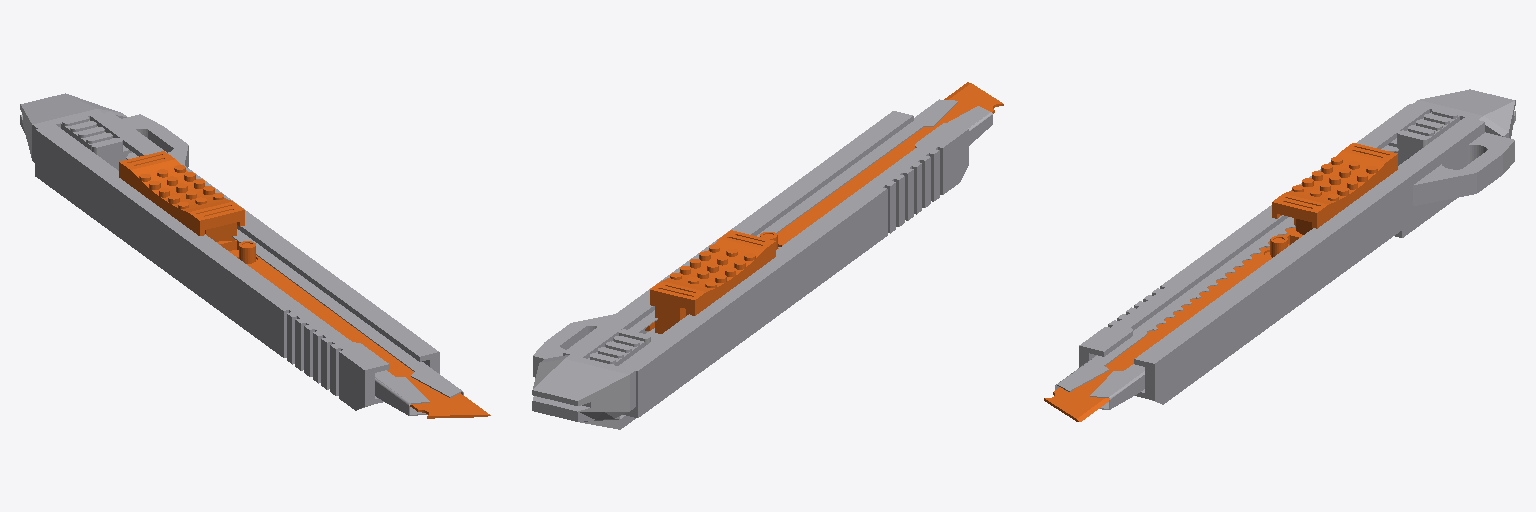
robot.urdf — blade_103706:
<?xml version="1.0"?>
<robot name="blade_103706">
  <!-- Meshes come from the dataset *_rotate exports, which share the joint frame. -->
  <link name="base_link">
    <visual>
      <origin xyz="0 0 0" rpy="0 0 0"/>
      <geometry>
        <mesh filename="meshes/blade_103706_base.obj"/>
      </geometry>
      <material name="steel_grey">
        <color rgba="0.70 0.70 0.72 1.0"/>
      </material>
    </visual>
    <collision>
      <origin xyz="0 0 0" rpy="0 0 0"/>
      <geometry>
        <mesh filename="meshes/blade_103706_base.obj"/>
      </geometry>
    </collision>
    <inertial>
      <origin xyz="-0.018945767 0.025636025 0.025158954" rpy="0 0 0"/>
      <mass value="0.068419596"/>
      <inertia ixx="0.019922337" ixy="0.000000000" ixz="0.000000000" iyy="0.000627694" iyz="0.000000000" izz="0.020243657"/>
    </inertial>
  </link>

  <link name="moving_link">
    <visual>
      <origin xyz="0 0 0" rpy="0 0 0"/>
      <geometry>
        <mesh filename="meshes/blade_103706_moving.obj"/>
      </geometry>
      <material name="handle_orange">
        <color rgba="0.93 0.47 0.16 1.0"/>
      </material>
    </visual>
    <collision>
      <origin xyz="0 0 0" rpy="0 0 0"/>
      <geometry>
        <mesh filename="meshes/blade_103706_moving.obj"/>
      </geometry>
    </collision>
    <inertial>
      <origin xyz="-0.004990726 0.071343290 0.073423035" rpy="0 0 0"/>
      <mass value="0.031580404"/>
      <inertia ixx="0.005660239" ixy="0.000000000" ixz="0.000000000" iyy="0.000075112" iyz="0.000000000" izz="0.005677428"/>
    </inertial>
  </link>

  <joint name="scissor_hinge" type="revolute">
    <origin xyz="0.000000000 0.000000000 0.000000000" rpy="0 0 0"/>
    <parent link="base_link"/>
    <child link="moving_link"/>
    <axis xyz="0.000000000 -1.000000000 0.000000000"/>
    <limit lower="0.000000000" upper="0.000000000" effort="5.0" velocity="4.0"/>
    <dynamics damping="0.05" friction="0.02"/>
  </joint>
</robot>

--- What the picture shows (computed from the rendered views, not written in the file) ---
The picture shows the robot from 3 angles, left to right: view 1: azimuth 30°, elevation 25°; view 2: azimuth 150°, elevation 25°; view 3: azimuth 330°, elevation 25°; orthographic projection.
Robot: blade_103706 — 2 links, 1 joints (1 revolute); root link base_link; default pose: every joint at zero.
Links seen in each view (by area): view 1: base_link, moving_link; view 2: base_link, moving_link; view 3: base_link, moving_link.
Link boxes in pixels (box(x1,y1,x2,y2)): base_link: box(20, 93, 463, 415); moving_link: box(119, 151, 490, 418); base_link: box(532, 99, 992, 429); moving_link: box(645, 82, 1003, 333); base_link: box(1055, 89, 1515, 409); moving_link: box(1044, 143, 1397, 421).
Bounding box of the posed robot: 0.2885 × 1.95 × 0.1967 m (x, y, z).
2 mesh visuals loaded from 2 distinct referenced files (2 OBJ).
